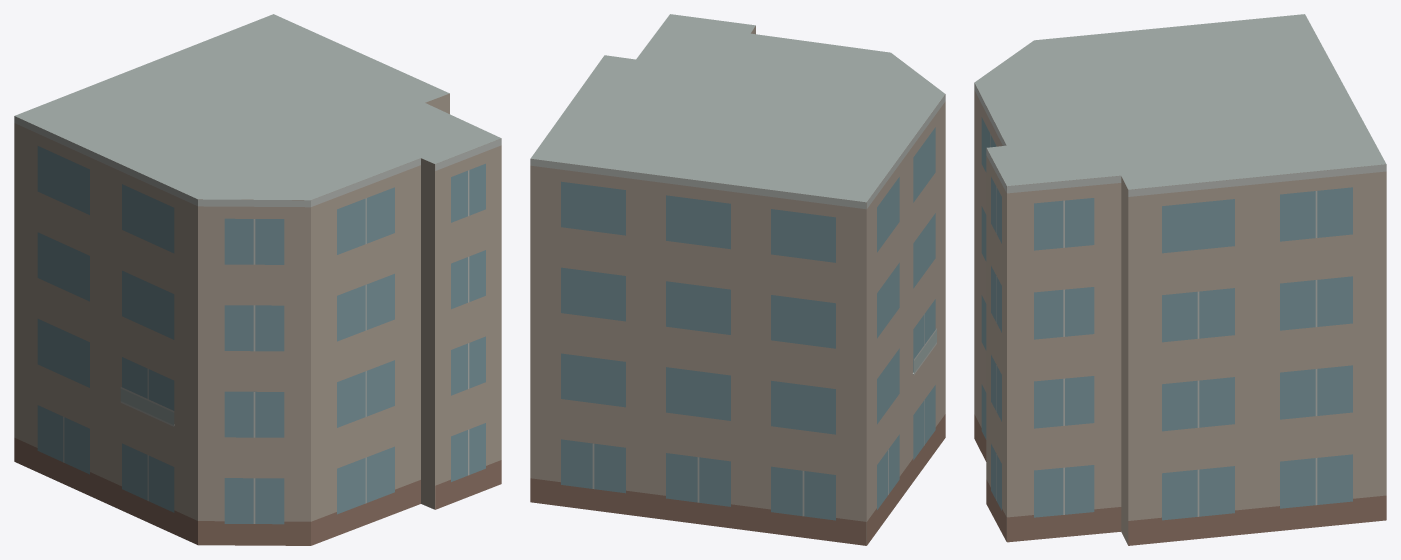
File: survey-upis-32695262.glb
The picture shows the model from 3 angles, left to right: view 1: azimuth 30°, elevation 25°; view 2: azimuth 150°, elevation 25°; view 3: azimuth 270°, elevation 25°; orthographic projection. The views are drawn at different scales.
Parts seen in each view (by area): view 1: survey-upis-32695262.tmp; view 2: survey-upis-32695262.tmp; view 3: survey-upis-32695262.tmp.
Boxes of the visible parts, box(x1,y1,x2,y2) form: survey-upis-32695262.tmp: box(14, 14, 501, 545); survey-upis-32695262.tmp: box(530, 14, 945, 545); survey-upis-32695262.tmp: box(974, 14, 1386, 545).
Size of the model in its own units: 12.71 by 12 by 12.6.
